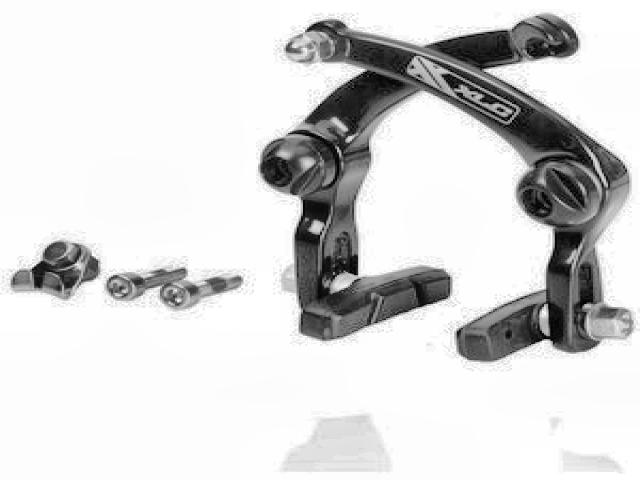rim_brake: (256, 10, 636, 363)
